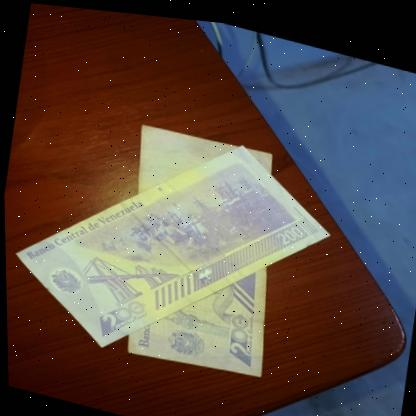vef_back: (2, 86, 342, 396), (104, 112, 294, 384)
